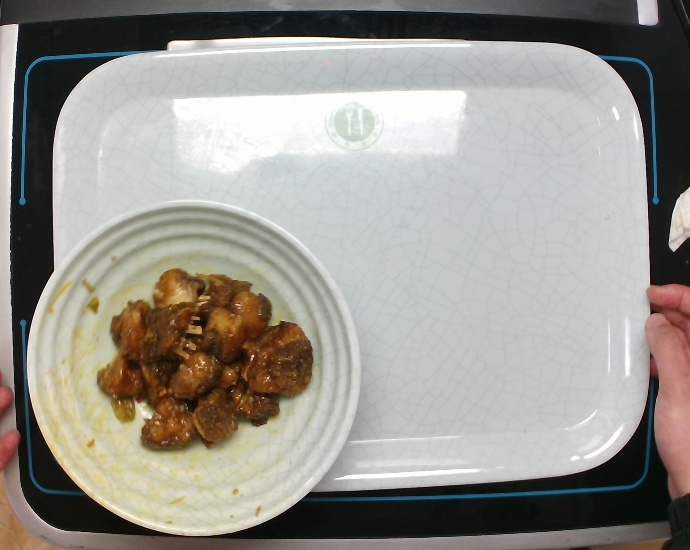JYsf-Da_Tang_Wan: (17, 194, 373, 544)
